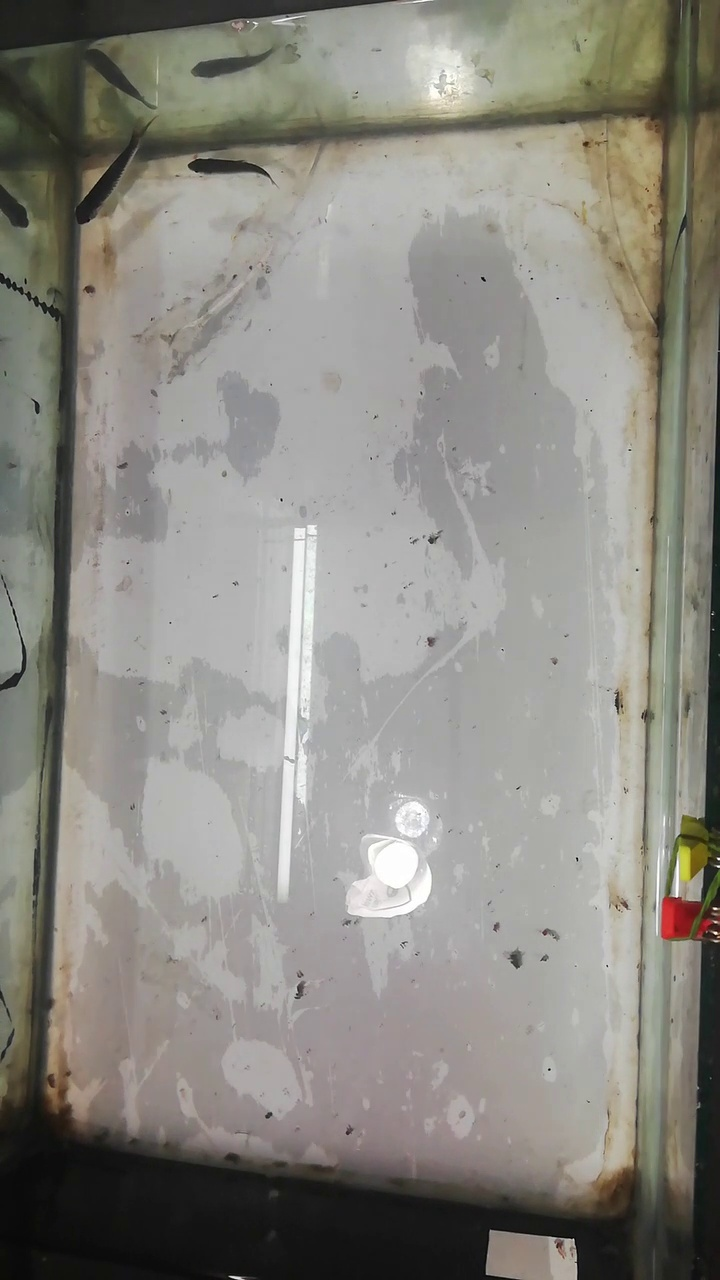fish1: (81, 127, 141, 228)
fish2: (186, 155, 277, 181)
